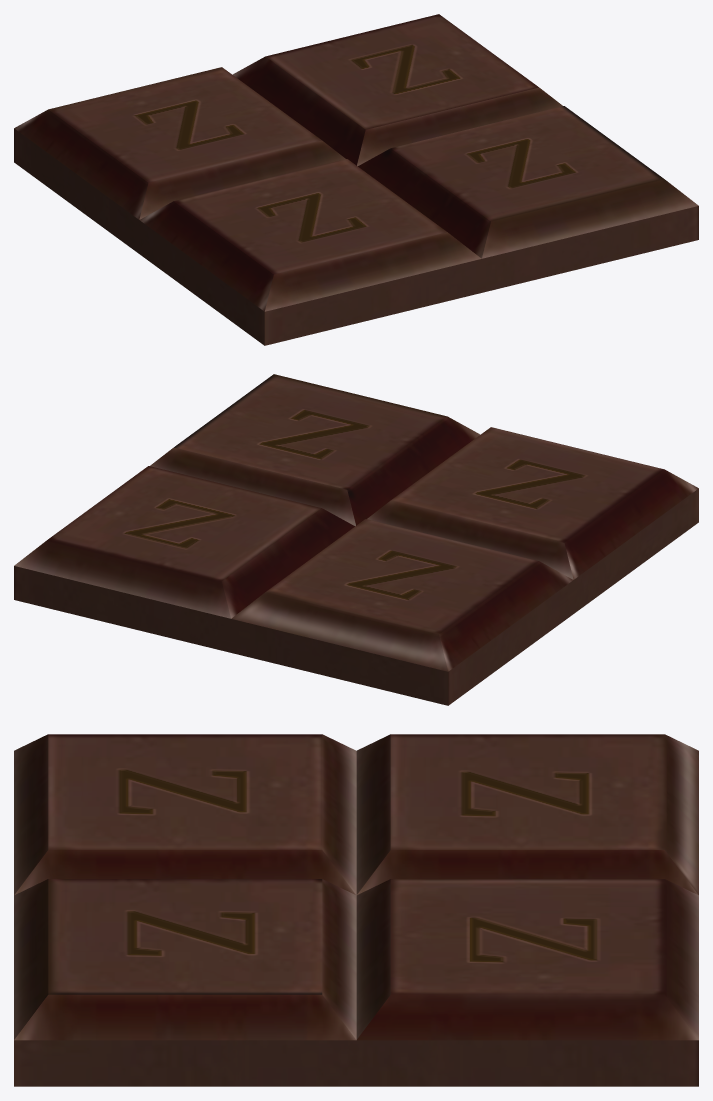
The model's file is KindledSpirits-Chocolate.fbx.
3 renders of one model, top to bottom at view 1: azimuth 30°, elevation 25°; view 2: azimuth 150°, elevation 25°; view 3: azimuth 270°, elevation 25°, orthographic. The views are drawn at different scales.
Visible parts, largest first — view 1: Chocloate-LOD0; view 2: Chocloate-LOD0; view 3: Chocloate-LOD0.
Part boxes in pixels (box(x1,y1,x2,y2)): Chocloate-LOD0: box(14, 14, 698, 345); Chocloate-LOD0: box(14, 374, 698, 705); Chocloate-LOD0: box(14, 734, 698, 1086).
Size of the model in its own units: 24.46 by 3.06 by 24.46.
